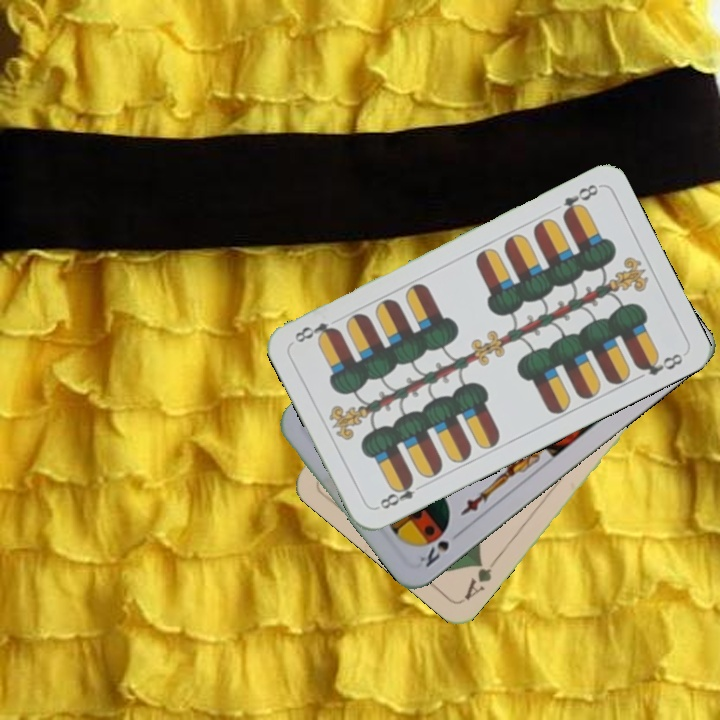E8: (372, 474, 428, 512), (558, 180, 601, 221)
GA: (460, 553, 501, 603)
SK: (415, 526, 465, 570)
